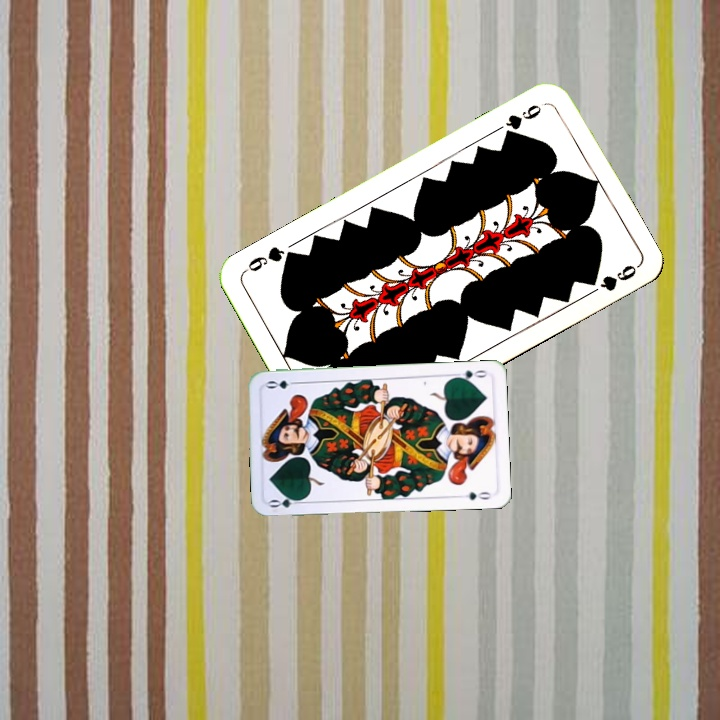G9: (499, 98, 548, 141)
GO: (266, 492, 306, 510), (450, 366, 489, 384)
